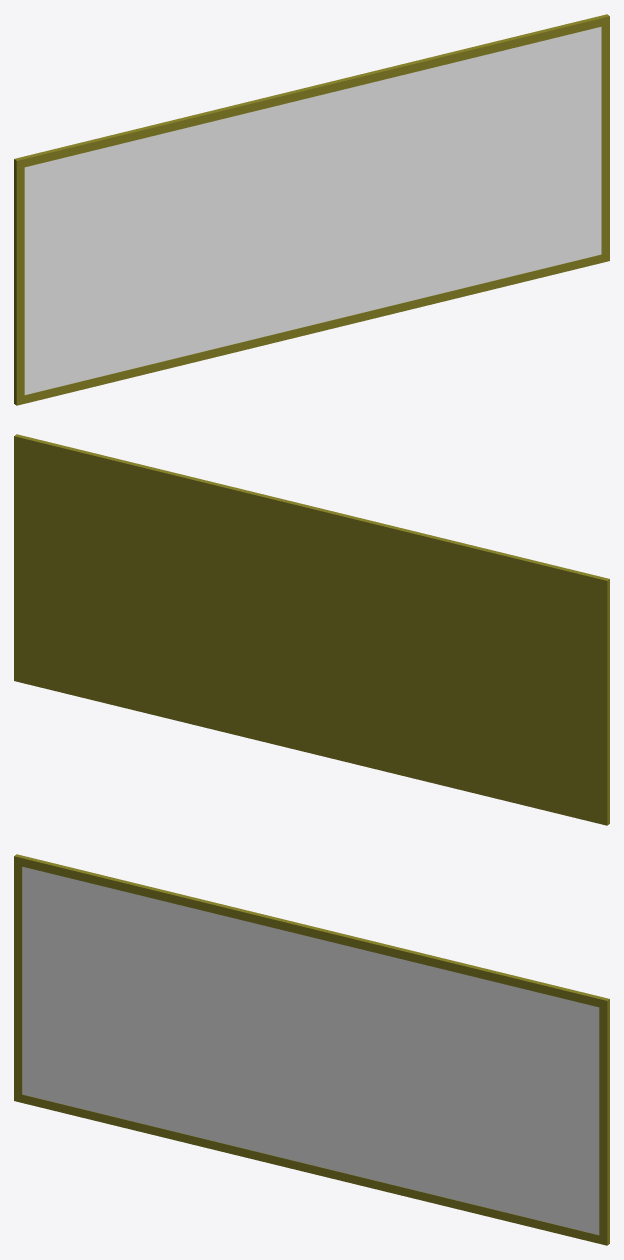
Rendered from largepainting_nice_3.FBX.
3 views of the same model, one above another, from view 1: azimuth 30°, elevation 25°; view 2: azimuth 150°, elevation 25°; view 3: azimuth 330°, elevation 25° (orthographic).
Parts seen in each view (by area): view 1: largepainting_nice_3; view 2: largepainting_nice_3; view 3: largepainting_nice_3.
Part boxes in pixels (x1,y1,x2,y2): largepainting_nice_3: (14,14,609,405); largepainting_nice_3: (14,434,609,825); largepainting_nice_3: (14,854,609,1245).
Size of the model in its own units: 226 by 1.82 by 89.1.
